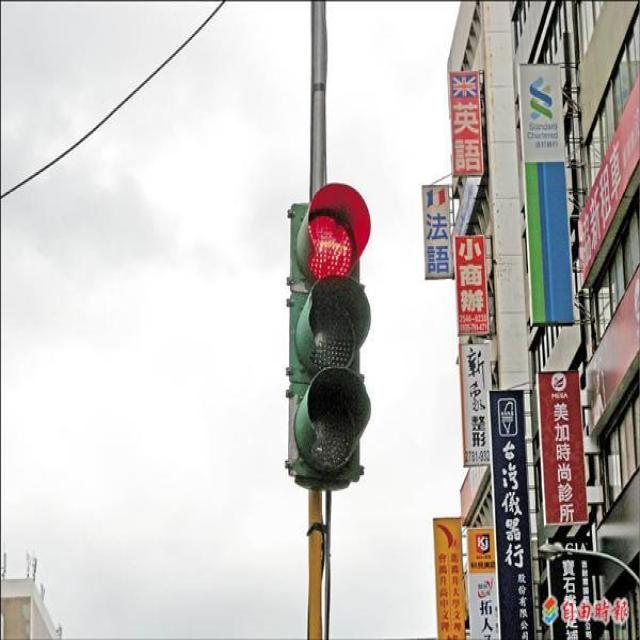red light: (286, 180, 372, 490)
